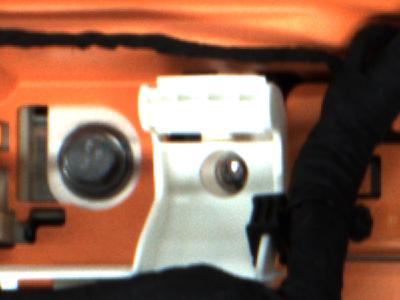nut_b: (56, 122, 130, 197)
